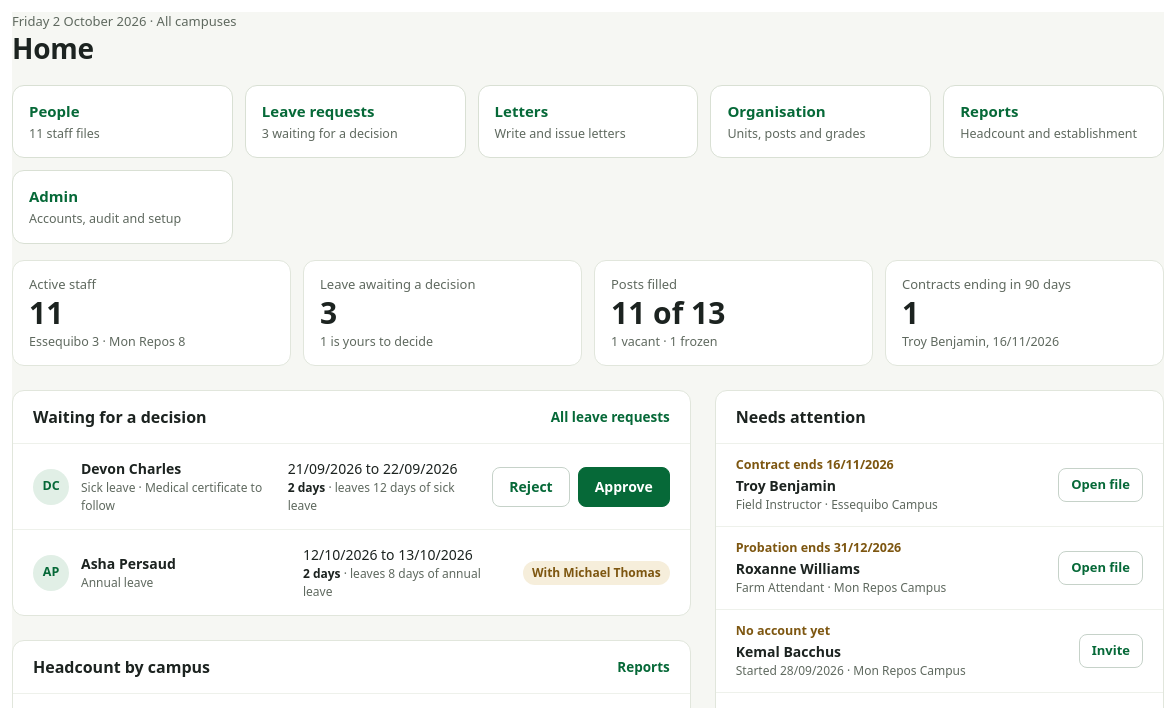
Test case: Home for Human Resources › approves leave on the spot, and tells the frame so the To do count moves
The width and height of the screenshot is (1164, 708).
Expected: the list item "Devon Charles" shows "Sick leave · Medical certificate to follow", [13, 443, 690, 529]
Expected: the list item "Devon Charles" shows "21/09/2026 to 22/09/2026", [288, 459, 458, 478]
Click the button with aria-label "Approve sick leave for Devon Charles".
click(624, 487)  # box [578, 467, 670, 507]
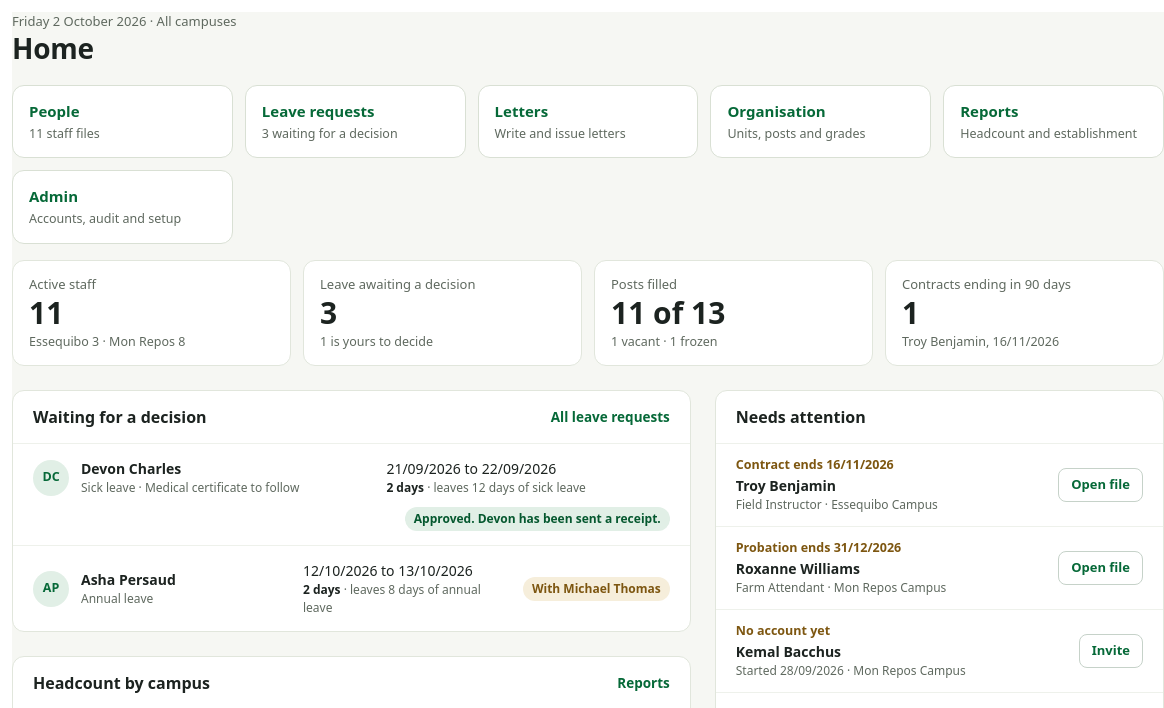
Result: the message reads "Approved. Devon has been sent a receipt." at [414, 510, 661, 527]
